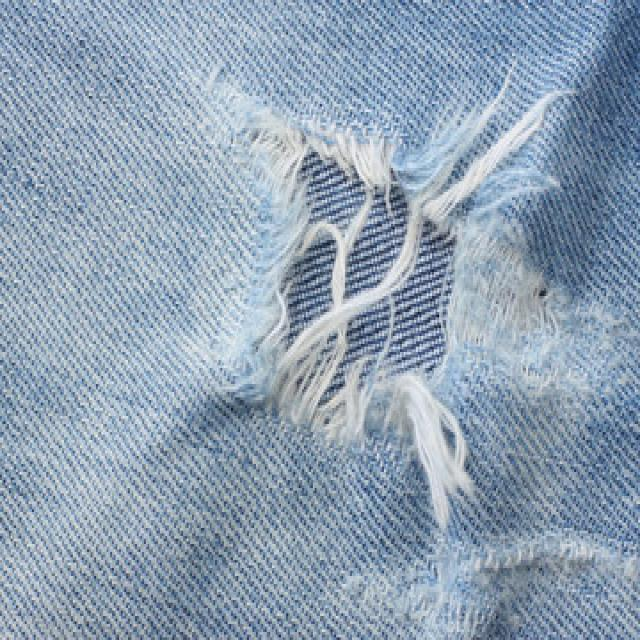Hole: (224, 95, 466, 460), (350, 537, 640, 640), (455, 225, 625, 390)
